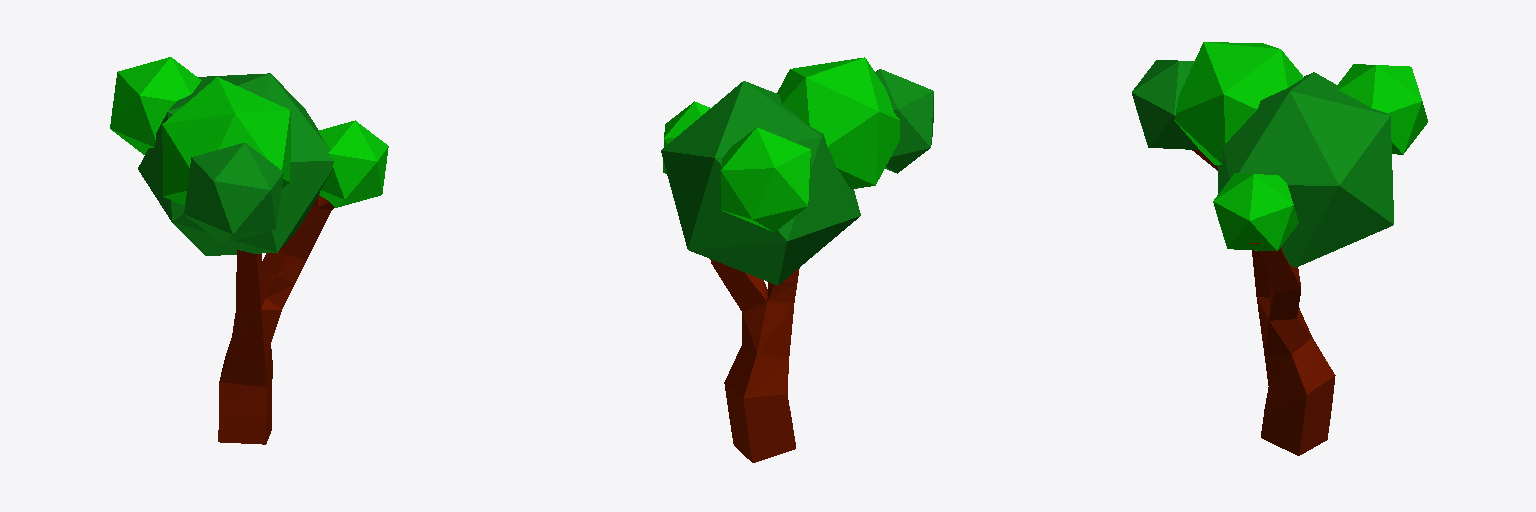
File: oak.obj
3 renders of one model, left to right at view 1: azimuth 30°, elevation 25°; view 2: azimuth 150°, elevation 25°; view 3: azimuth 270°, elevation 25°, orthographic.
Visible parts, largest first — view 1: Cube_Cube.001, Icosphere.003, Icosphere.001, Icosphere, Icosphere.004, Icosphere.002; view 2: Icosphere.003, Cube_Cube.001, Icosphere.001, Icosphere.004, Icosphere, Icosphere.002; view 3: Icosphere.003, Cube_Cube.001, Icosphere.001, Icosphere.002, Icosphere.004, Icosphere.
Part boxes in pixels (x1,y1,x2,y2): Cube_Cube.001: (218, 195, 334, 444); Icosphere.003: (138, 73, 334, 255); Icosphere.001: (162, 77, 290, 205); Icosphere: (184, 143, 283, 243); Icosphere.004: (110, 57, 201, 154); Icosphere.002: (318, 120, 388, 207); Icosphere.003: (661, 81, 860, 285); Cube_Cube.001: (710, 259, 799, 462); Icosphere.001: (777, 57, 899, 188); Icosphere.004: (720, 127, 810, 231); Icosphere: (875, 69, 933, 173); Icosphere.002: (663, 101, 710, 173); Icosphere.003: (1217, 72, 1393, 267); Cube_Cube.001: (1192, 150, 1335, 455); Icosphere.001: (1174, 42, 1303, 165); Icosphere.002: (1213, 173, 1298, 250); Icosphere.004: (1338, 64, 1427, 154); Icosphere: (1132, 60, 1198, 149).
Bounding box in the file's own units: 4.88 × 7.46 × 5.33.